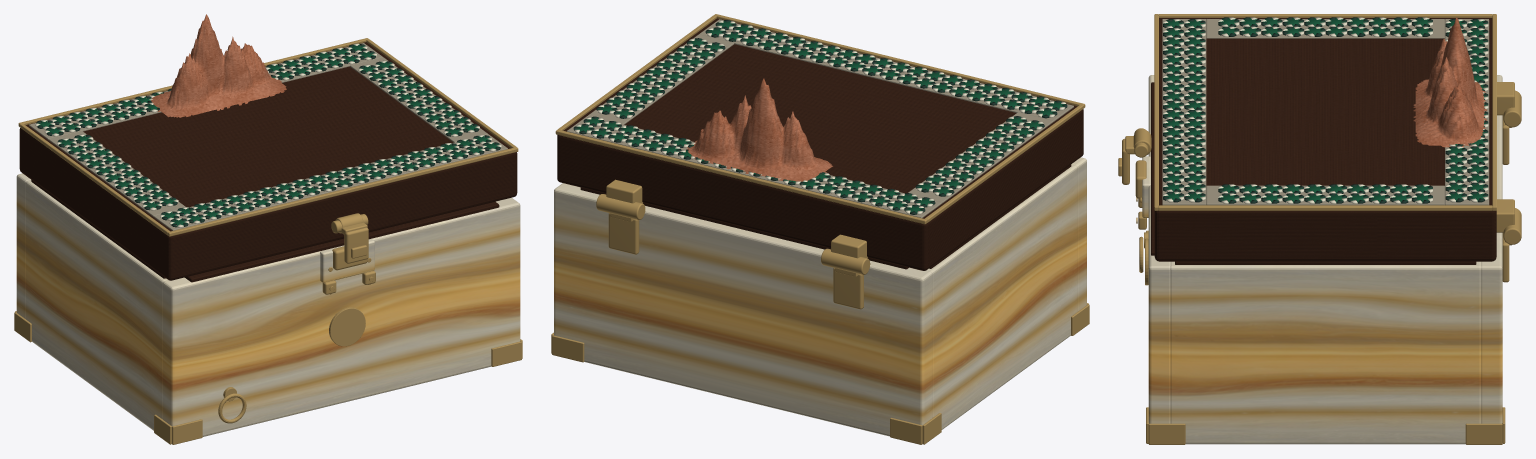
Rendered from morocco.glb.
The picture shows the model from 3 angles, left to right: view 1: azimuth 30°, elevation 25°; view 2: azimuth 150°, elevation 25°; view 3: azimuth 270°, elevation 25°; orthographic projection. The views are drawn at different scales.
Parts seen in each view (by area): view 1: Rose stone / front, Lid / polished slab, Rose stone / side, Ceramic tessera / deep green glaze, Atlas ridge / rear centre eroded massif, Ceramic tessera / ivory glaze, Ceramic tessera / near black green accents, Rim / long, Brass / crown long, Tile bed / long, Rose stone / rear, Tile bed / long.001 (+10 smaller); view 2: Rose stone / rear, Lid / polished slab, Rose stone / side, Ceramic tessera / deep green glaze, Ceramic tessera / near black green accents, Atlas ridge / rear centre eroded massif, Ceramic tessera / ivory glaze, Brass / crown long.001, Tile bed / long, Tile bed / long.001, Brass / crown long, Rose stone / front (+13 smaller); view 3: Rose stone / side.001, Lid / polished slab, Ceramic tessera / deep green glaze, Ceramic tessera / ivory glaze, Ceramic tessera / near black green accents, Atlas ridge / rear centre eroded massif, Rose stone / rear, Rose stone / front, Brass / crown side.001, Tile bed / long, Tile bed / return.001, Tile bed / return (+13 smaller).
Part boxes in pixels (left/top/right/bottom): Rose stone / front: left=162, top=197, right=520, bottom=436; Lid / polished slab: left=19, top=42, right=517, bottom=280; Rose stone / side: left=25, top=180, right=167, bottom=430; Ceramic tessera / deep green glaze: left=37, top=44, right=499, bottom=226; Atlas ridge / rear centre eroded massif: left=151, top=14, right=286, bottom=117; Ceramic tessera / ivory glaze: left=35, top=43, right=501, bottom=227; Ceramic tessera / near black green accents: left=36, top=44, right=500, bottom=227; Rim / long: left=185, top=201, right=499, bottom=282; Brass / crown long: left=167, top=147, right=518, bottom=236; Tile bed / long: left=153, top=134, right=507, bottom=230; Rose stone / rear: left=16, top=173, right=30, bottom=318; Tile bed / long.001: left=29, top=43, right=382, bottom=139; Rose stone / rear: left=554, top=183, right=932, bottom=436; Lid / polished slab: left=557, top=18, right=1083, bottom=270; Rose stone / side: left=926, top=164, right=1077, bottom=429; Ceramic tessera / deep green glaze: left=575, top=21, right=1065, bottom=213; Ceramic tessera / near black green accents: left=573, top=20, right=1067, bottom=214; Atlas ridge / rear centre eroded massif: left=685, top=78, right=832, bottom=181; Ceramic tessera / ivory glaze: left=574, top=20, right=1065, bottom=214; Brass / crown long.001: left=555, top=129, right=927, bottom=224; Tile bed / long: left=699, top=19, right=1073, bottom=121; Tile bed / long.001: left=567, top=116, right=941, bottom=218; Brass / crown long: left=714, top=14, right=1085, bottom=108; Rose stone / front: left=1071, top=157, right=1086, bottom=311; Rose stone / side.001: left=1170, top=261, right=1480, bottom=444; Lid / polished slab: left=1154, top=18, right=1496, bottom=261; Ceramic tessera / deep green glaze: left=1164, top=18, right=1487, bottom=203; Ceramic tessera / ivory glaze: left=1163, top=17, right=1488, bottom=203; Ceramic tessera / near black green accents: left=1163, top=17, right=1488, bottom=203; Atlas ridge / rear centre eroded massif: left=1413, top=17, right=1486, bottom=147; Rose stone / rear: left=1481, top=75, right=1502, bottom=423; Rose stone / front: left=1148, top=75, right=1170, bottom=423; Brass / crown side.001: left=1158, top=205, right=1492, bottom=210; Tile bed / long: left=1162, top=19, right=1206, bottom=205; Tile bed / return.001: left=1206, top=185, right=1444, bottom=205; Tile bed / return: left=1206, top=19, right=1444, bottom=38.
Size of the model in its own units: 3.76 by 2.96 by 3.28.
8 materials, 3 textured.
